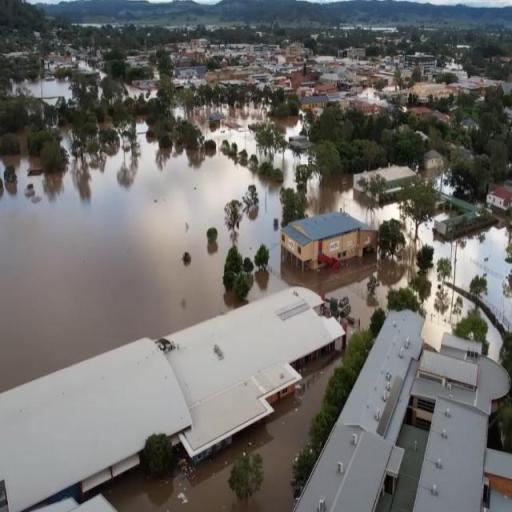flood: (0, 105, 512, 392), (100, 358, 337, 512), (306, 175, 400, 226), (422, 286, 476, 351), (14, 78, 71, 104), (480, 309, 504, 361), (273, 117, 302, 136), (436, 172, 457, 195), (128, 86, 146, 96)
house: (162, 286, 350, 460), (314, 308, 434, 440), (411, 397, 491, 509), (284, 207, 374, 271), (352, 164, 418, 204), (484, 442, 511, 506), (485, 181, 512, 218), (404, 52, 437, 71), (300, 94, 328, 112), (424, 148, 444, 170)
